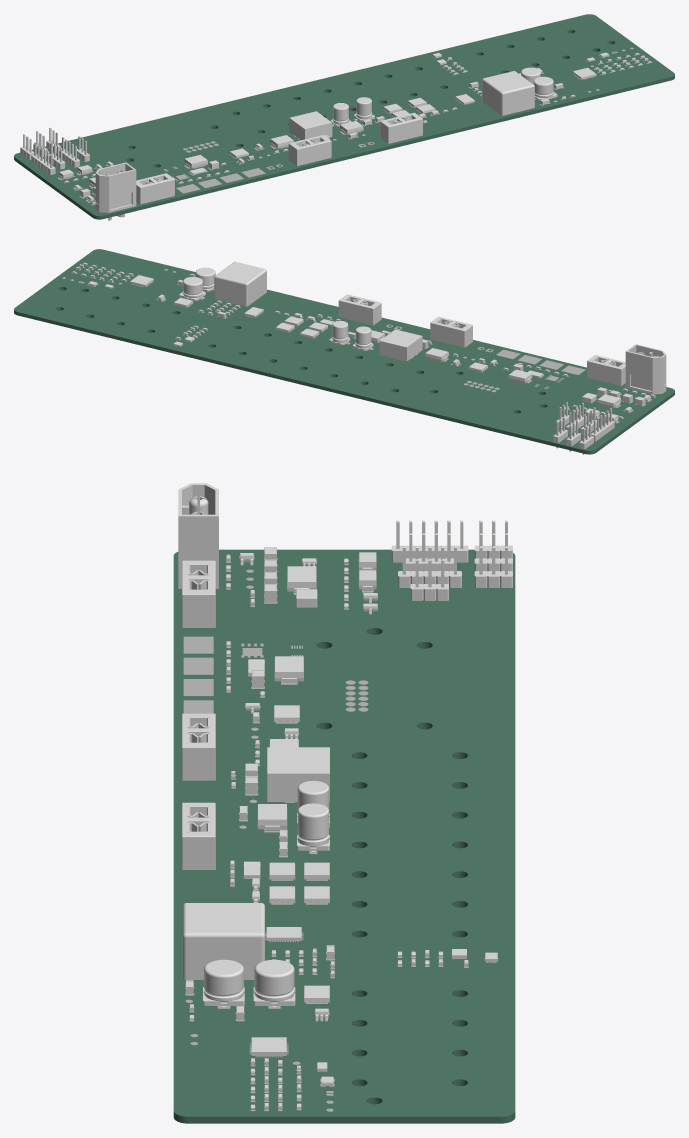
The model's file is pcb-e1-dock.glb.
3 views of the same model, one above another, from view 1: azimuth 30°, elevation 25°; view 2: azimuth 150°, elevation 25°; view 3: azimuth 270°, elevation 25° (orthographic). The views are drawn at different scales.
Parts seen in each view (by area): view 1: =>[0:1:1:35], J_BATT, L1, =>[0:1:1:34], F1, F2, L2, F3, J_SMB, C25, C12, C11 (+1 smaller); view 2: =>[0:1:1:35], L1, J_BATT, =>[0:1:1:34], L2, F2, F1, F3, C24, J_SMB, C11, C12 (+1 smaller); view 3: =>[0:1:1:35], L1, =>[0:1:1:34], J_BATT, L2, F1, F3, F2, C24, C25, C12, J_SMB (+4 smaller).
Part boxes in pixels (<box>): =>[0:1:1:35]: <box>14,14,674,219</box>; J_BATT: <box>95,162,136,220</box>; L1: <box>482,71,534,115</box>; =>[0:1:1:34]: <box>58,47,652,205</box>; F1: <box>288,135,331,165</box>; F2: <box>380,112,422,143</box>; L2: <box>289,111,332,140</box>; F3: <box>136,173,174,204</box>; J_SMB: <box>31,142,55,174</box>; C25: <box>533,76,557,100</box>; C12: <box>354,97,374,121</box>; C11: <box>331,103,351,127</box>; =>[0:1:1:35]: <box>14,249,674,454</box>; L1: <box>214,261,266,306</box>; J_BATT: <box>625,344,666,394</box>; =>[0:1:1:34]: <box>62,263,655,423</box>; L2: <box>379,329,422,361</box>; F2: <box>338,294,381,325</box>; F1: <box>430,316,472,347</box>; F3: <box>587,355,625,385</box>; C24: <box>179,276,205,300</box>; J_SMB: <box>591,408,614,441</box>; C11: <box>352,326,373,350</box>; C12: <box>329,320,350,345</box>; =>[0:1:1:35]: <box>173,549,515,1123</box>; L1: <box>182,903,264,979</box>; =>[0:1:1:34]: <box>183,558,498,1111</box>; J_BATT: <box>178,483,218,588</box>; L2: <box>267,747,329,801</box>; F1: <box>182,713,215,780</box>; F3: <box>182,560,215,627</box>; F2: <box>182,802,215,869</box>; C24: <box>253,959,295,1007</box>; C25: <box>203,959,244,1007</box>; C12: <box>297,803,329,852</box>; J_SMB: <box>391,520,468,562</box>.
Bounding box in the file's own units: 0.267 × 0.0205 × 0.068.
